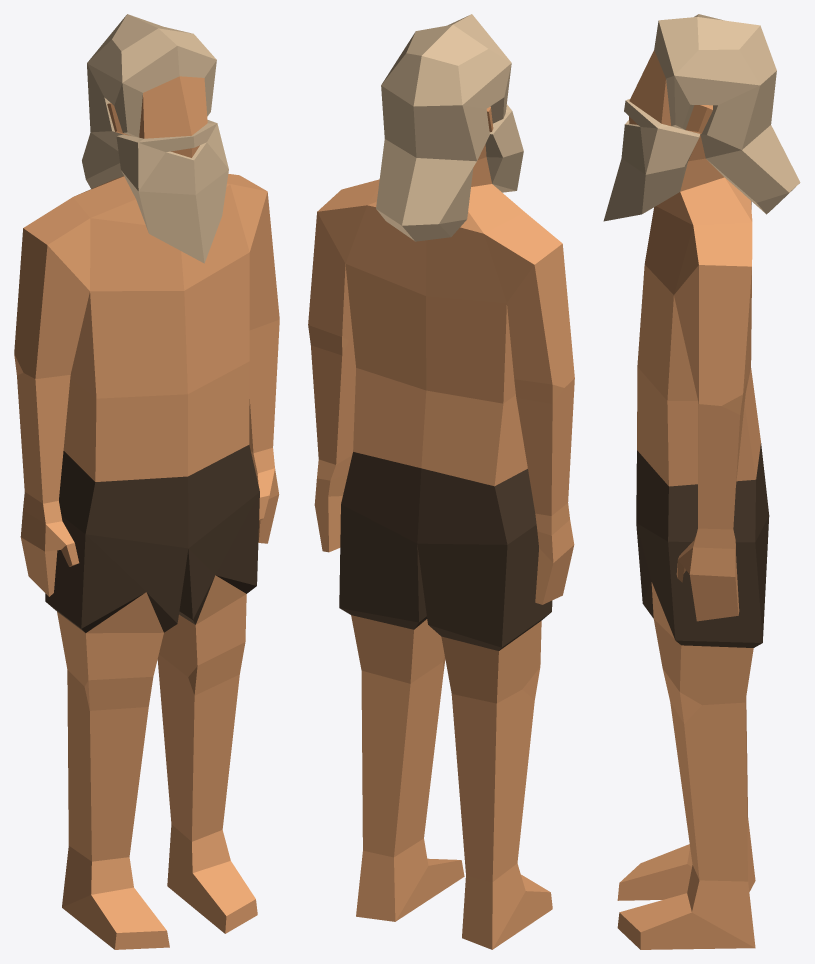
Rendered from man-casteway.fbx.
3 renders of one model, left to right at view 1: azimuth 30°, elevation 25°; view 2: azimuth 150°, elevation 25°; view 3: azimuth 270°, elevation 25°, orthographic.
Parts seen in each view (by area): view 1: man-casteway; view 2: man-casteway; view 3: man-casteway.
Boxes of the visible parts, bbox=[...] form: man-casteway: bbox=[14, 14, 279, 949]; man-casteway: bbox=[308, 14, 574, 949]; man-casteway: bbox=[603, 14, 800, 949].
Bounding box in the file's own units: 0.5348 × 1.84 × 0.3653.
